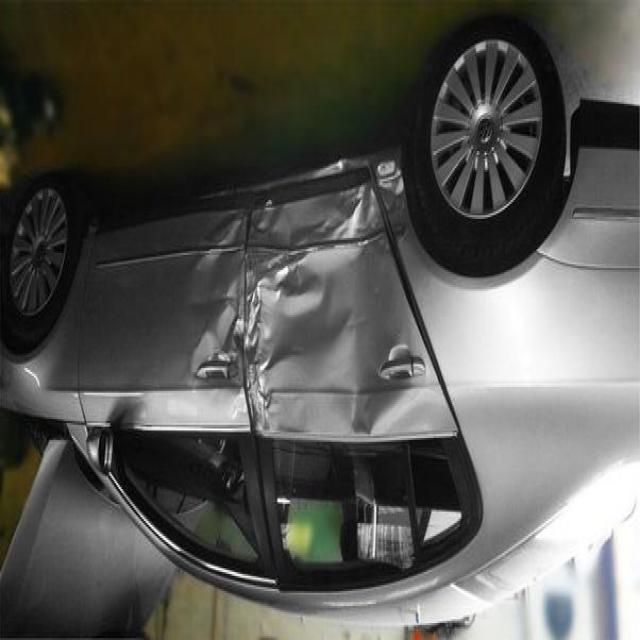dent: (186, 144, 416, 471)
